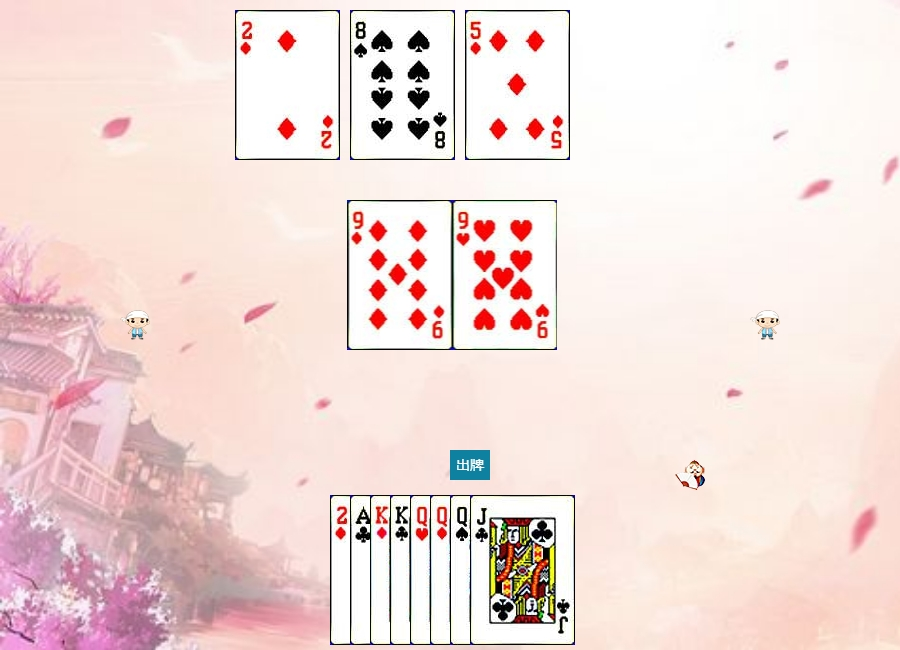11~2: (470, 495, 575, 645)
12~1: (430, 495, 535, 645)
12~3: (410, 495, 515, 645)
12~4: (450, 495, 555, 645)
13~1: (370, 495, 475, 645)
13~2: (390, 495, 495, 645)
14~2: (350, 495, 455, 645)
15~1: (235, 10, 340, 160), (330, 495, 435, 645)
5~1: (465, 10, 570, 160)
8~4: (350, 10, 455, 160)
9~1: (348, 200, 453, 350)
9~3: (453, 200, 558, 350)
